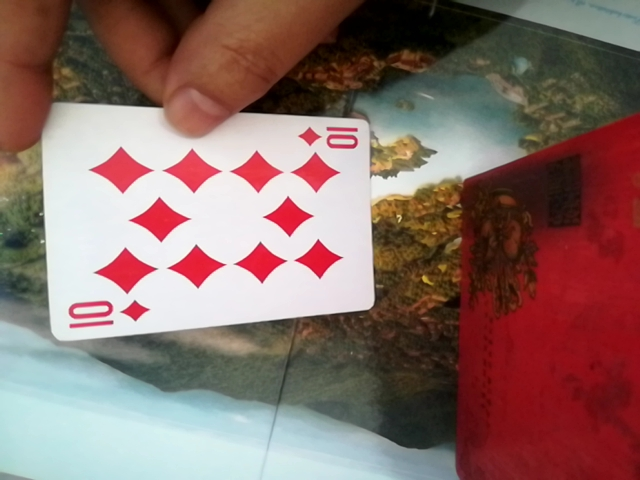fk 10: (38, 107, 379, 338)
